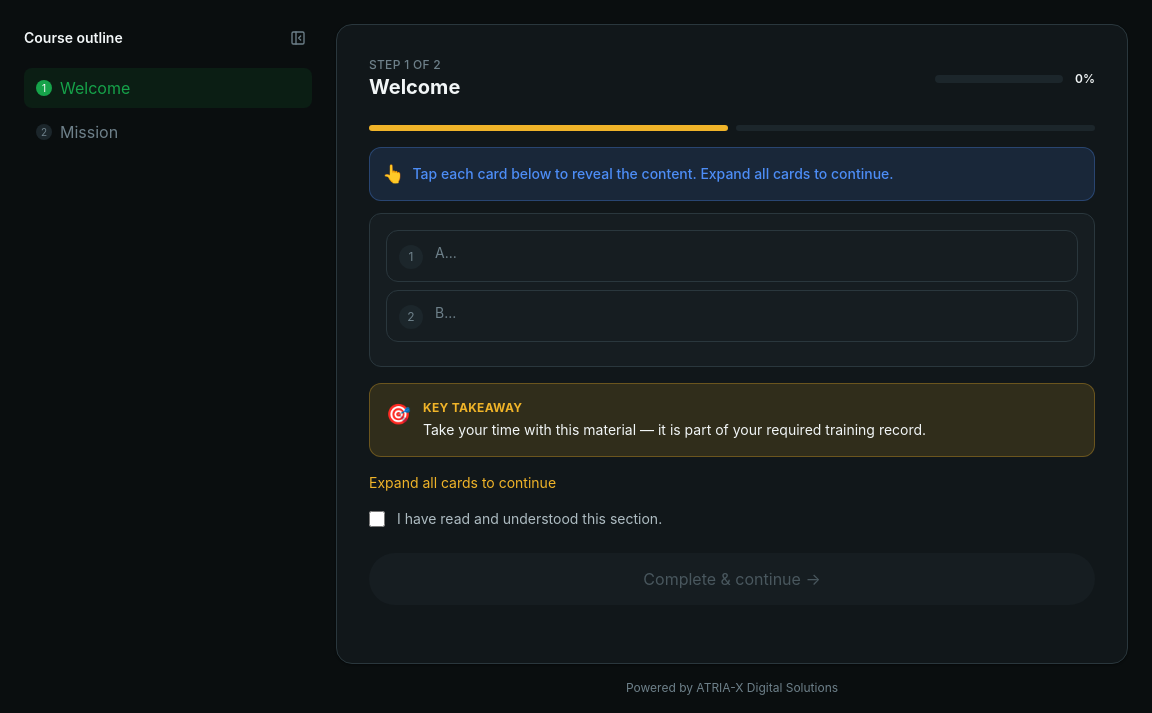
CoursePlayerPage › allows the user to complete a text step and advance
Expected: the heading "Welcome" is shown, [369,73,460,101]
Click the text "A..." at (446, 252), box [435,244,457,261]
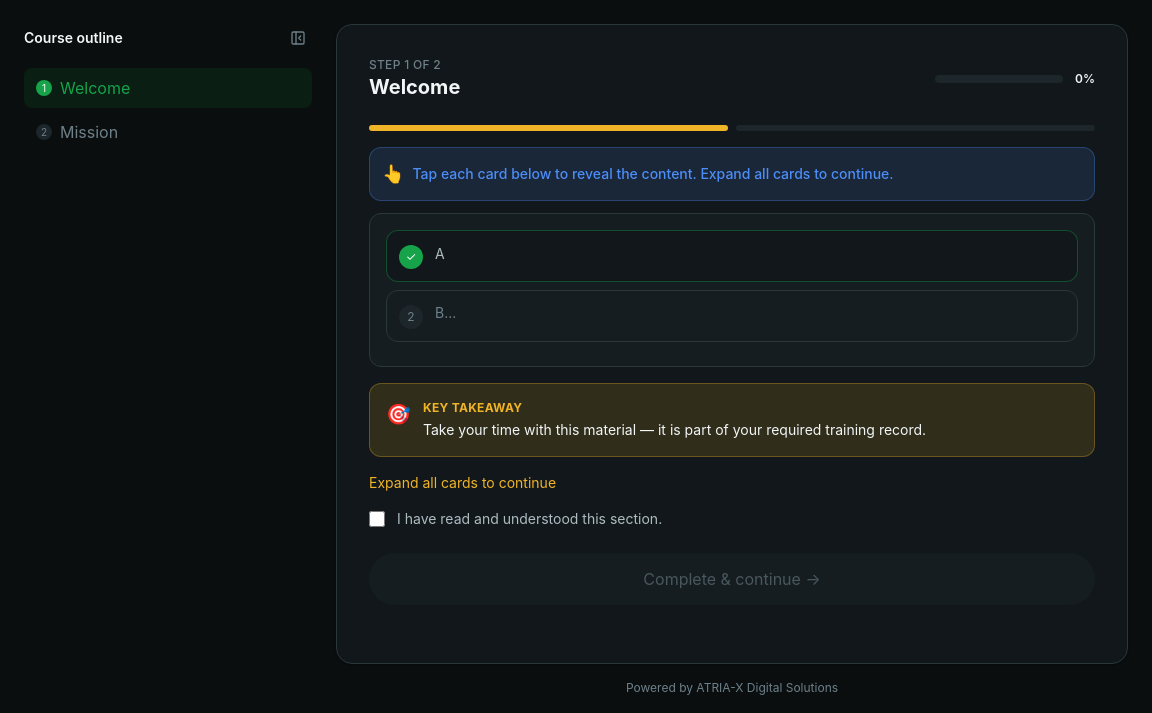
Click the text "B..." at (446, 312), box [435,304,456,321]
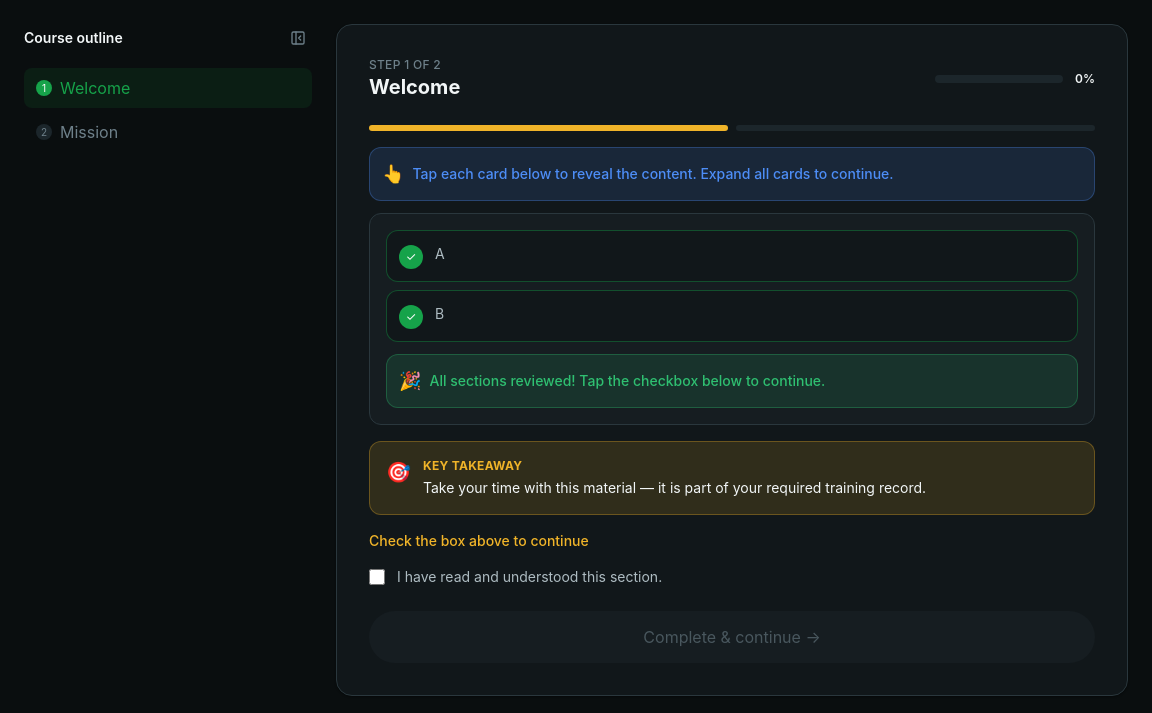
Click the checkbox labelled "I have read and understood this section." at (377, 577), box [369,569,385,585]
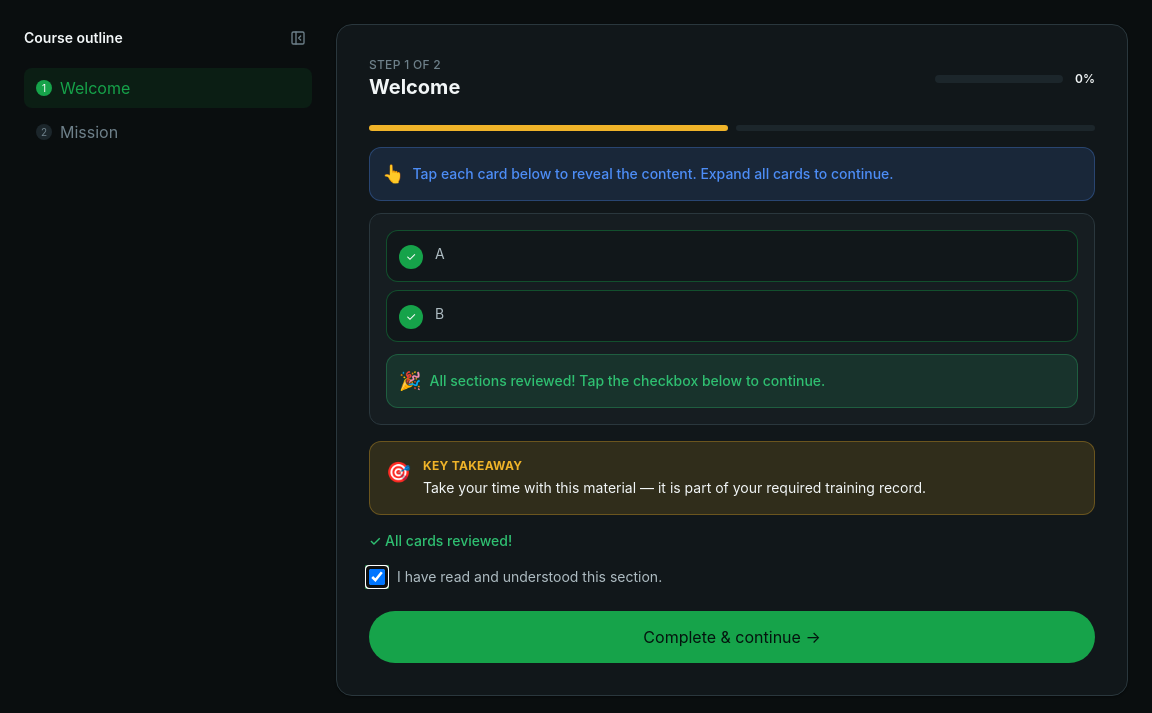
Click the button "Complete & continue →" at (732, 637), box [369,611,1095,663]
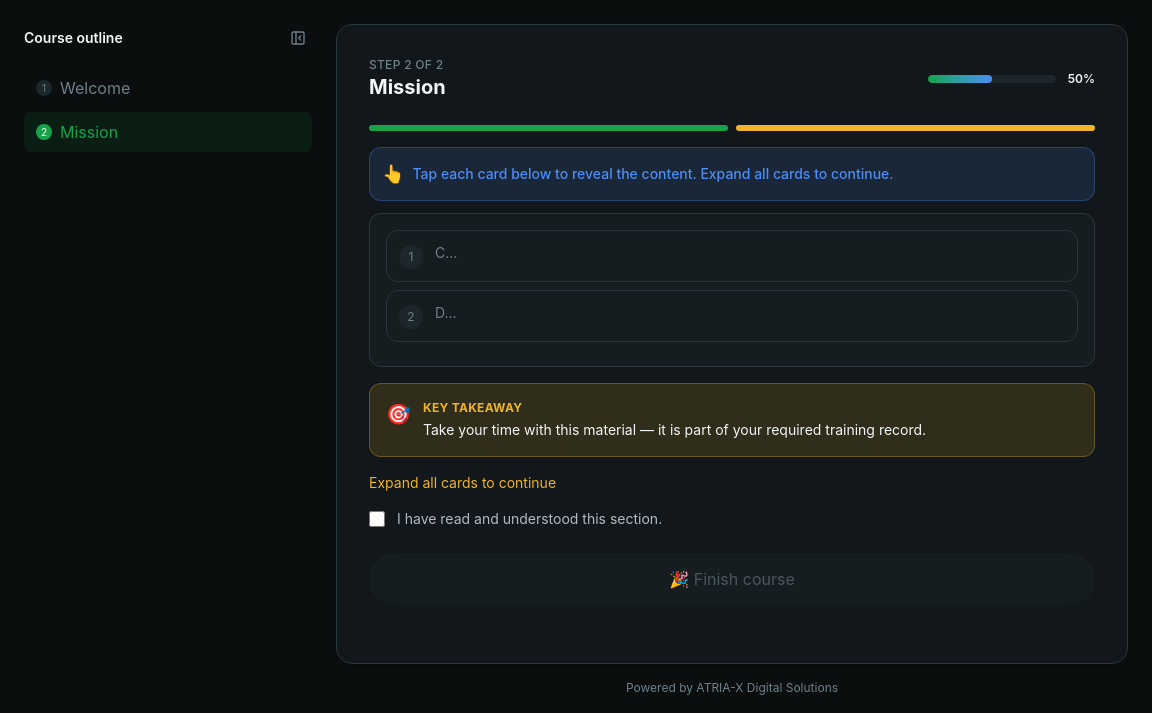
Expected: the heading "Mission" is shown, [369,73,446,101]
